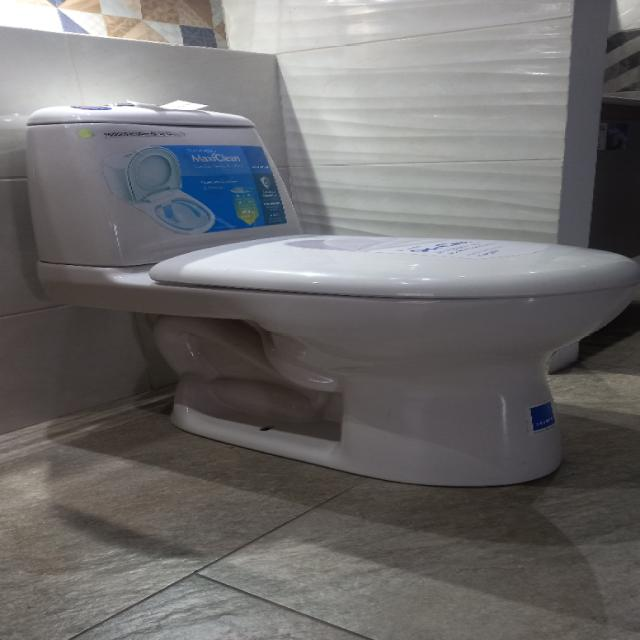toilet: (24, 101, 638, 487)
